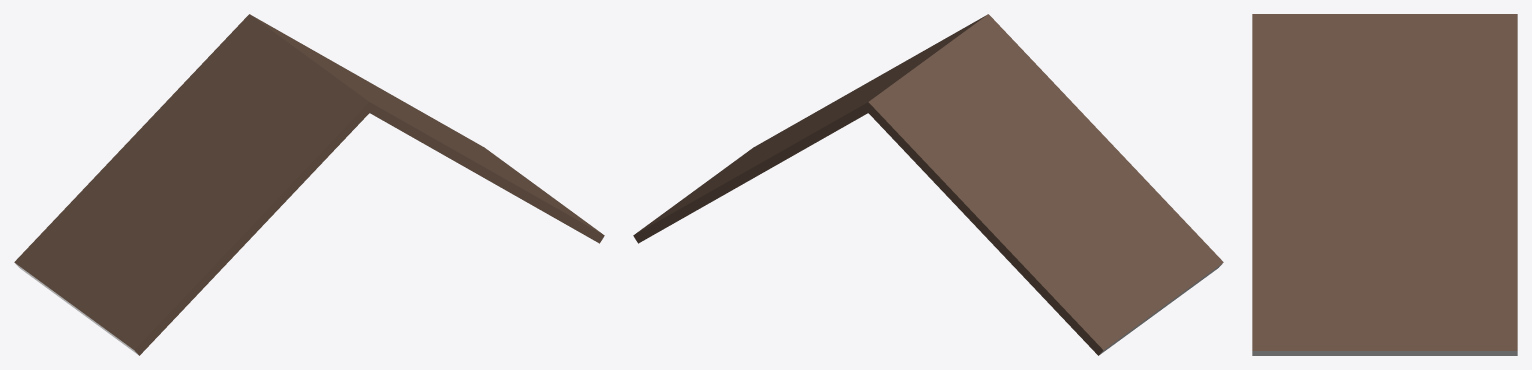
The model's file is Roof1_C2_01.fbx.
The picture shows the model from 3 angles, left to right: view 1: azimuth 30°, elevation 25°; view 2: azimuth 150°, elevation 25°; view 3: azimuth 270°, elevation 25°; orthographic projection. The views are drawn at different scales.
Parts seen in each view (by area): view 1: Roof1_C2_01; view 2: Roof1_C2_01; view 3: Roof1_C2_01.
Part boxes in pixels (x1,y1,x2,y2): Roof1_C2_01: (14, 14, 604, 355); Roof1_C2_01: (633, 14, 1223, 355); Roof1_C2_01: (1252, 14, 1517, 355).
Bounding box in the file's own units: 565 × 227 × 250.
